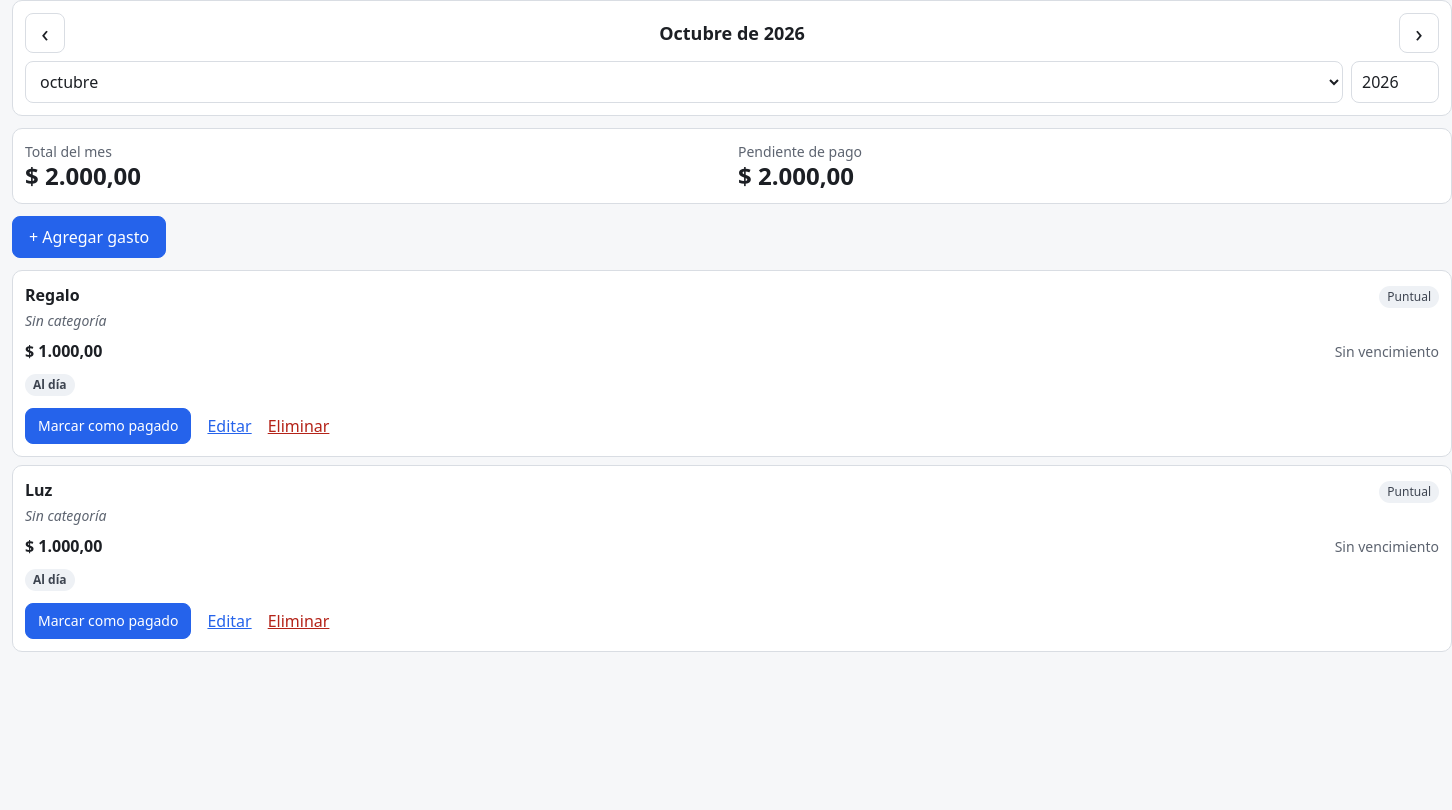
Scenario: ExpensesPage › elimina un gasto puntual después de confirmar
This screenshot has width=1452, height=810.
Click the button with aria-label "Eliminar Regalo": (299, 426) [268,414,329,438]
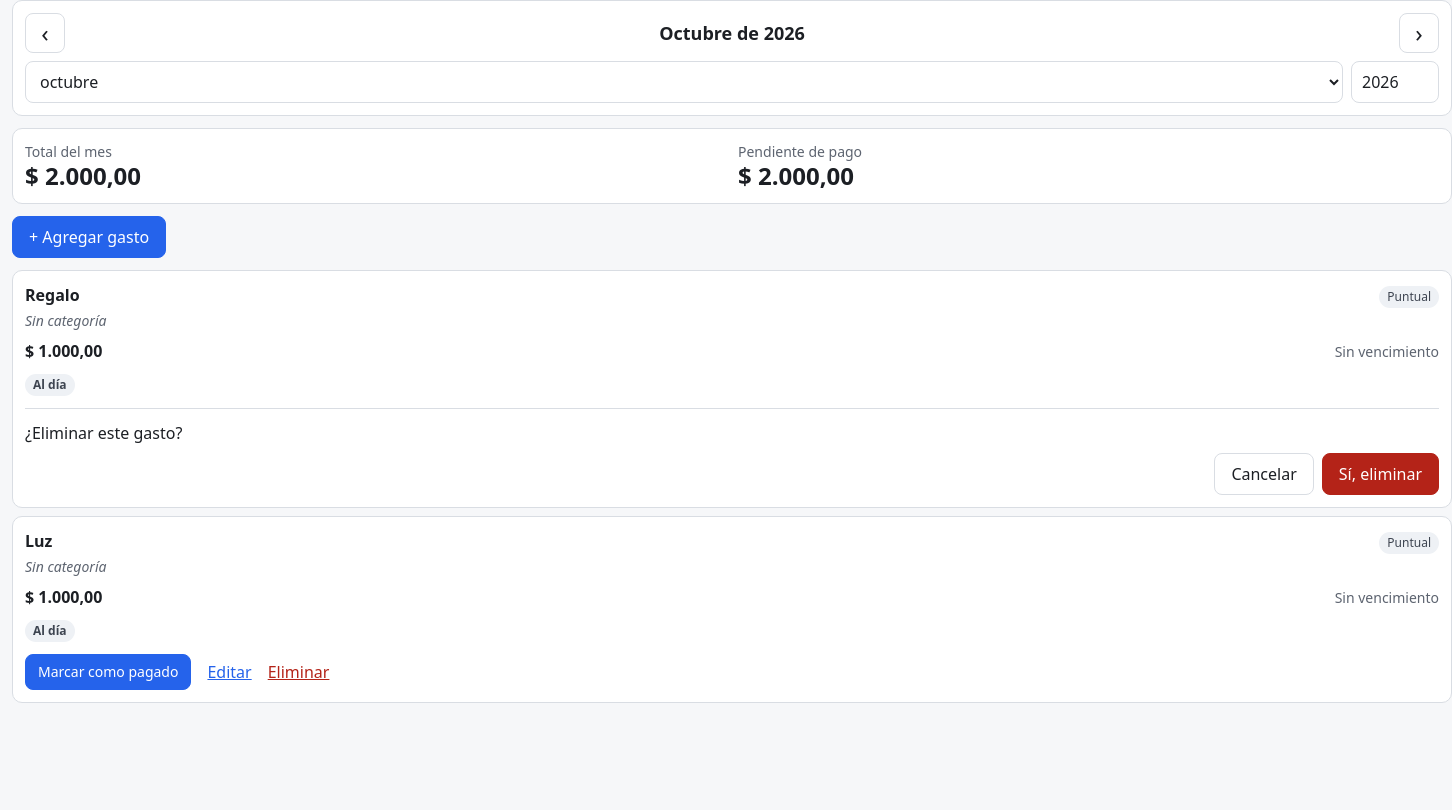
Click the button "Sí, eliminar": (1380, 474) [1322,453,1439,495]
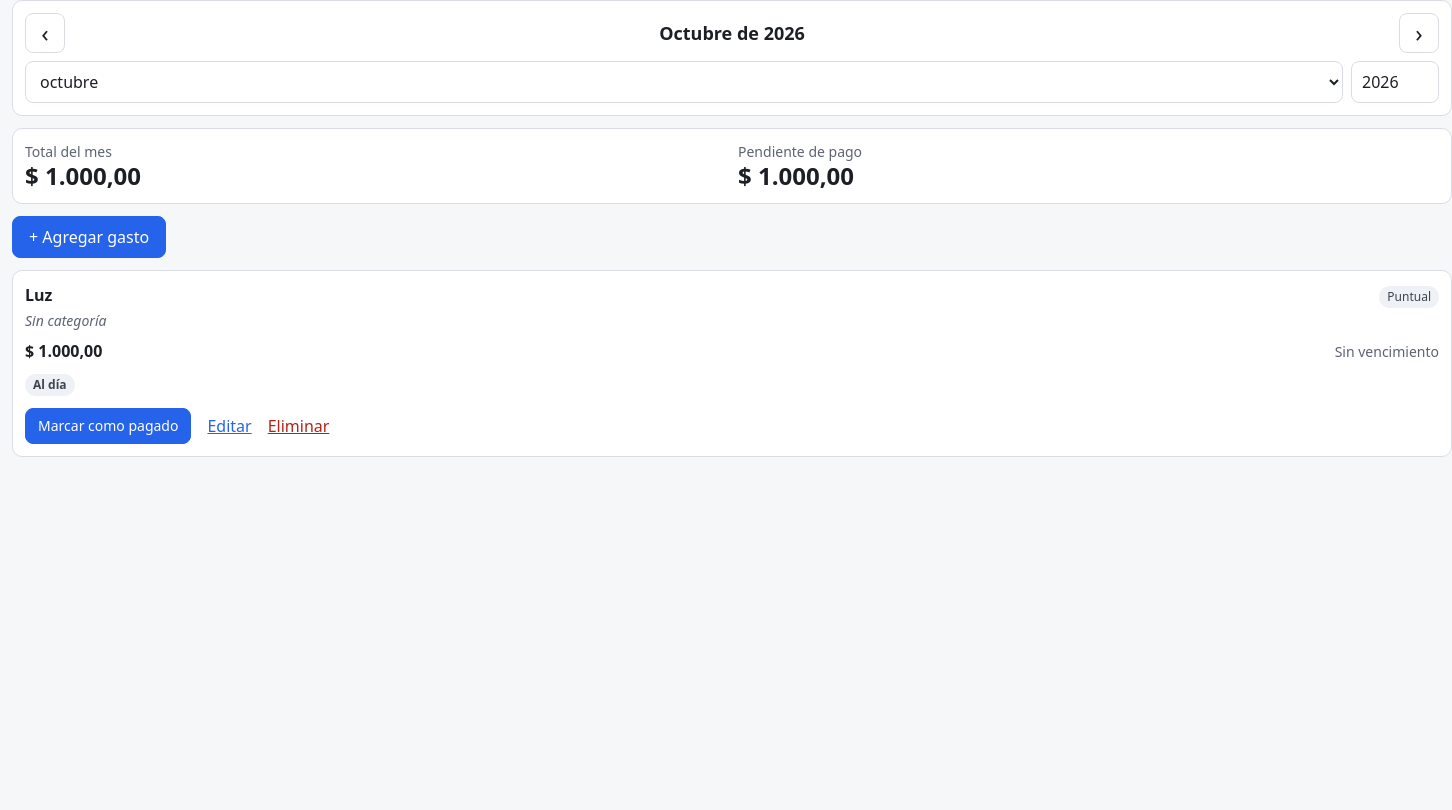
Expected: the text "Luz" is shown, [25,283,52,307]
Expected: the text "Regalo" is gone
